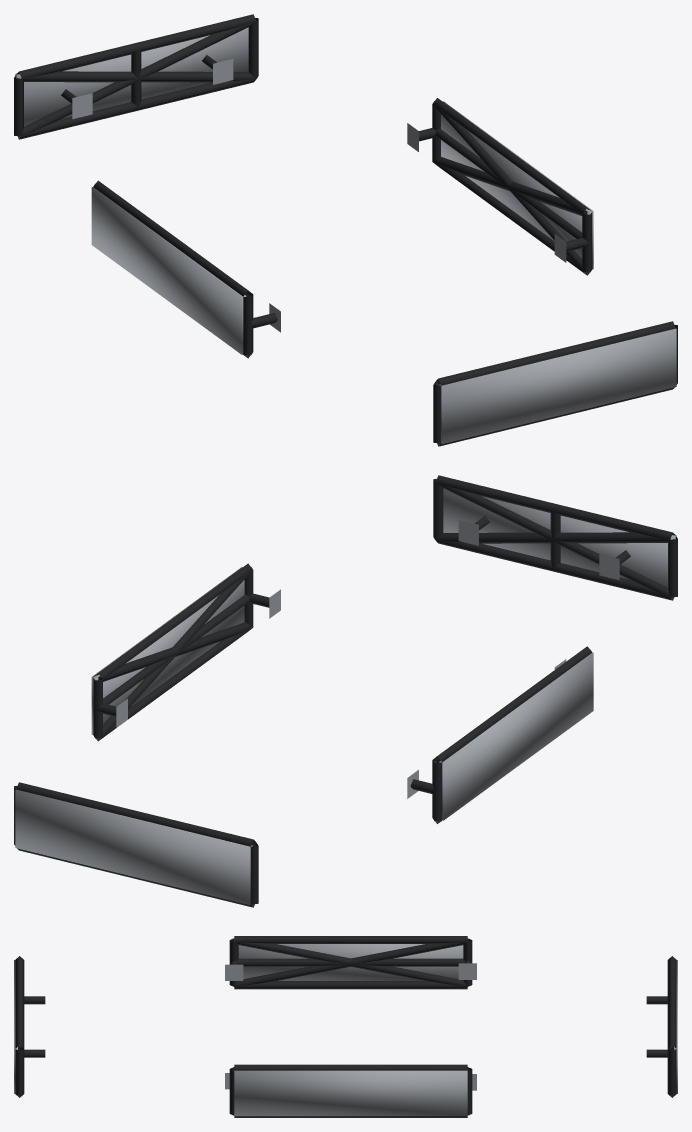
File: hayase_ninho_protecao.glb
3 renders of one model, top to bottom at view 1: azimuth 30°, elevation 25°; view 2: azimuth 150°, elevation 25°; view 3: azimuth 270°, elevation 25°, orthographic. The views are drawn at different scales.
Visible parts, largest first — view 1: Protection_front_Level3_Details, Protection_left_Level3_Details, Protection_rear_Level1_Details, Protection_rear_Level3_Details, Protection_right_Level1_Details, Protection_rear_Level2_Details, Protection_right_Level2_Details, Protection_right_Level3_Details, Protection_front_Level1_Details, Protection_left_Level1_Details; view 2: Protection_rear_Level3_Details, Protection_left_Level3_Details, Protection_front_Level1_Details, Protection_front_Level3_Details, Protection_right_Level1_Details, Protection_front_Level2_Details, Protection_right_Level2_Details, Protection_right_Level3_Details, Protection_rear_Level1_Details, Protection_left_Level1_Details; view 3: Protection_right_Level3_Details, Protection_left_Level2_Details, Protection_left_Level1_Details, Protection_left_Level3_Details, Protection_right_Level1_Details, Protection_rear_Level1_Details, Protection_front_Level1_Details.
Part boxes in pixels (box(x1,y1,x2,y2)): Protection_front_Level3_Details: box(439, 328, 676, 443); Protection_left_Level3_Details: box(91, 187, 246, 354); Protection_rear_Level1_Details: box(14, 14, 258, 139); Protection_rear_Level3_Details: box(15, 27, 248, 126); Protection_right_Level1_Details: box(407, 98, 592, 275); Protection_rear_Level2_Details: box(16, 22, 255, 138); Protection_right_Level2_Details: box(433, 105, 591, 274); Protection_right_Level3_Details: box(441, 101, 593, 269); Protection_front_Level1_Details: box(433, 321, 677, 446); Protection_left_Level1_Details: box(93, 180, 280, 358); Protection_rear_Level3_Details: box(15, 789, 252, 904); Protection_left_Level3_Details: box(439, 652, 593, 820); Protection_front_Level1_Details: box(433, 475, 677, 600); Protection_front_Level3_Details: box(443, 488, 676, 587); Protection_right_Level1_Details: box(93, 563, 280, 741); Protection_front_Level2_Details: box(436, 483, 675, 599); Protection_right_Level2_Details: box(94, 570, 252, 740); Protection_right_Level3_Details: box(91, 567, 244, 734); Protection_rear_Level1_Details: box(14, 782, 258, 907); Protection_left_Level1_Details: box(407, 646, 592, 823); Protection_right_Level3_Details: box(234, 1070, 467, 1116); Protection_left_Level2_Details: box(233, 938, 468, 986); Protection_left_Level1_Details: box(225, 936, 476, 989); Protection_left_Level3_Details: box(238, 944, 463, 980); Protection_right_Level1_Details: box(225, 1064, 476, 1117); Protection_rear_Level1_Details: box(646, 956, 676, 1097); Protection_front_Level1_Details: box(15, 956, 45, 1097).
Bounding box in the file's own units: 1.91 × 0.354 × 4.01.
Materials: 1 (1 with a texture image).
